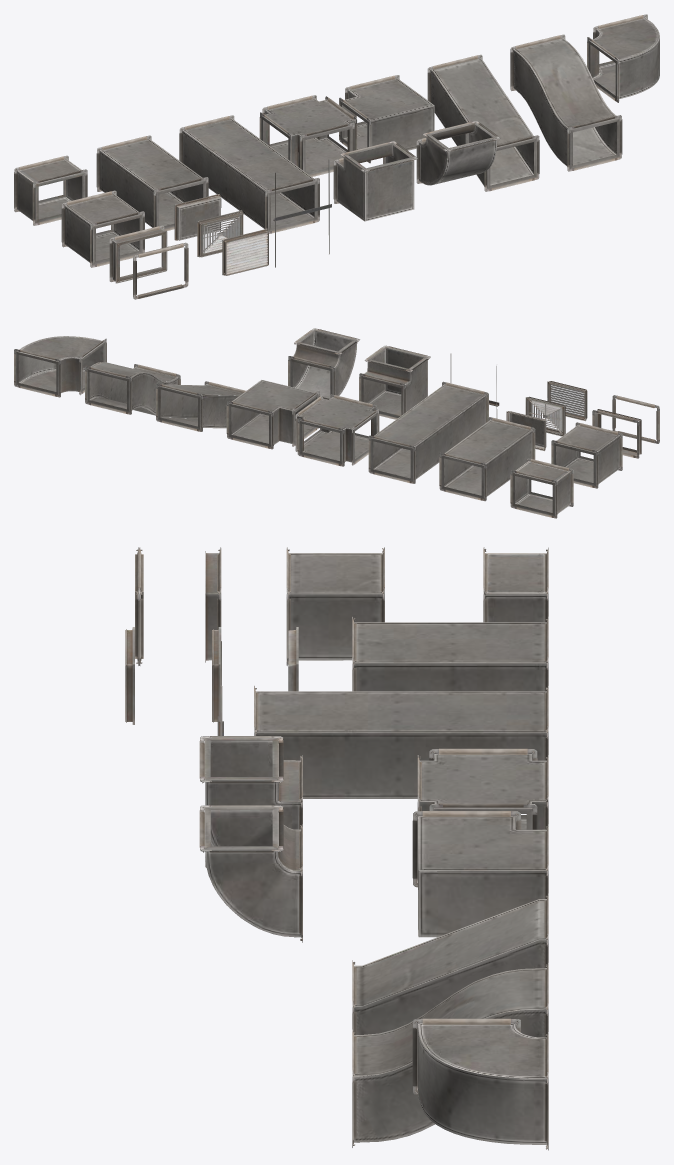
The model's file is ph_modular_airduct_rectangular_01.glb.
The picture shows the model from 3 angles, top to bottom: view 1: azimuth 30°, elevation 25°; view 2: azimuth 150°, elevation 25°; view 3: azimuth 270°, elevation 25°; orthographic projection. The views are drawn at different scales.
Parts seen in each view (by area): view 1: modular_airduct_rectangular_01_single_01; view 2: modular_airduct_rectangular_01_single_01; view 3: modular_airduct_rectangular_01_single_01.
Part boxes in pixels (x1,y1,x2,y2): modular_airduct_rectangular_01_single_01: (14, 14, 659, 299); modular_airduct_rectangular_01_single_01: (14, 328, 659, 518); modular_airduct_rectangular_01_single_01: (125, 547, 548, 1150).
Bounding box in the file's own units: 7.66 × 1.26 × 2.59.
2 materials, 2 textured.
